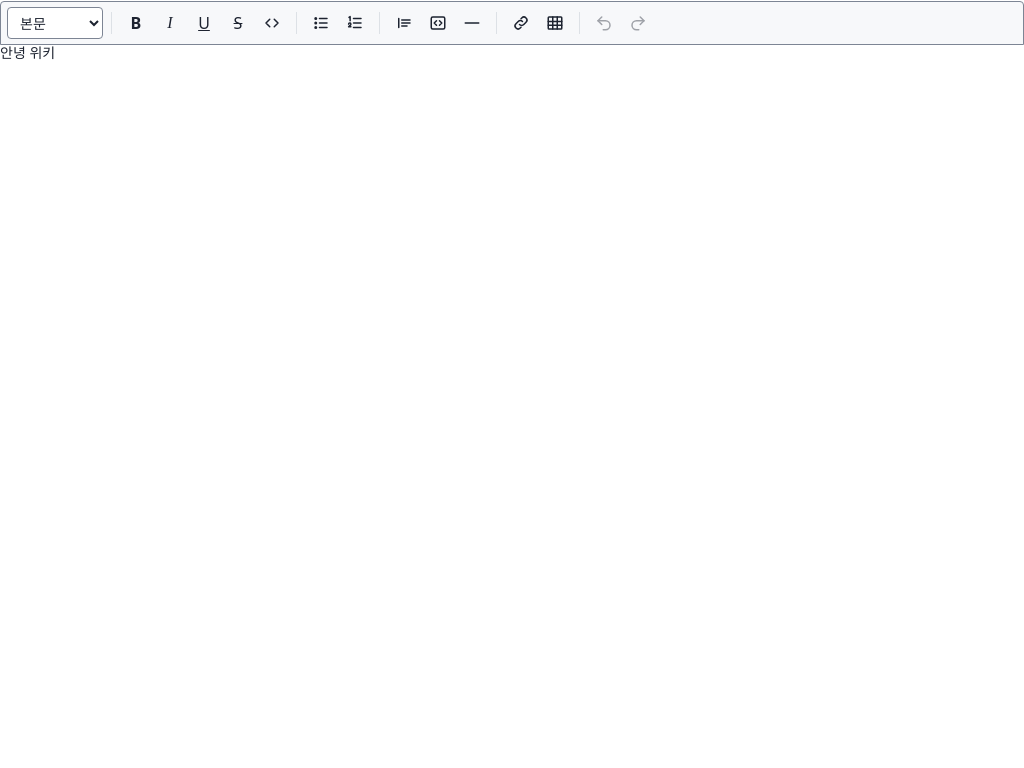
FormatToolbar › **링크 — 대화로 주소를 받고, 안 되는 주소는 까닭을 보이고 닫지 않는다**
The image size is (1024, 768).
Click the button named "링크".
click(521, 23)  # box x1=505 y1=7 x2=537 y2=39
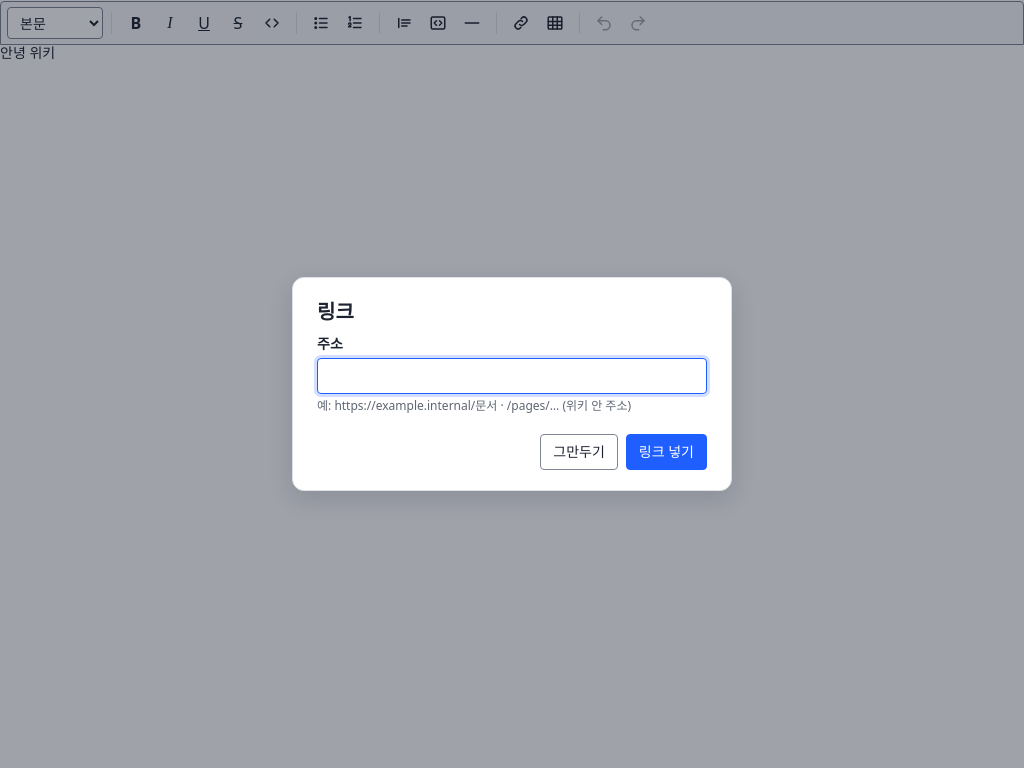
Type "mailto:a@example.internal" into the field labelled "주소".
click(512, 376); type("mailto:a@example.internal")  # box x1=317 y1=358 x2=707 y2=394
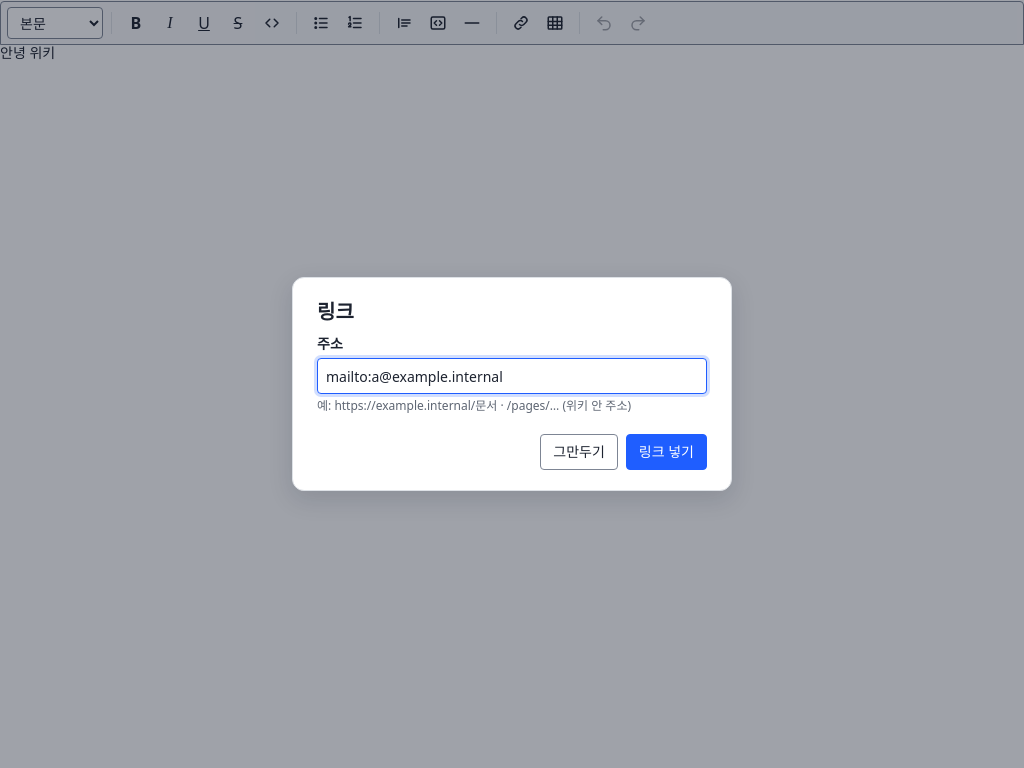
Click the button "링크 넣기".
click(666, 452)  # box x1=626 y1=434 x2=707 y2=470
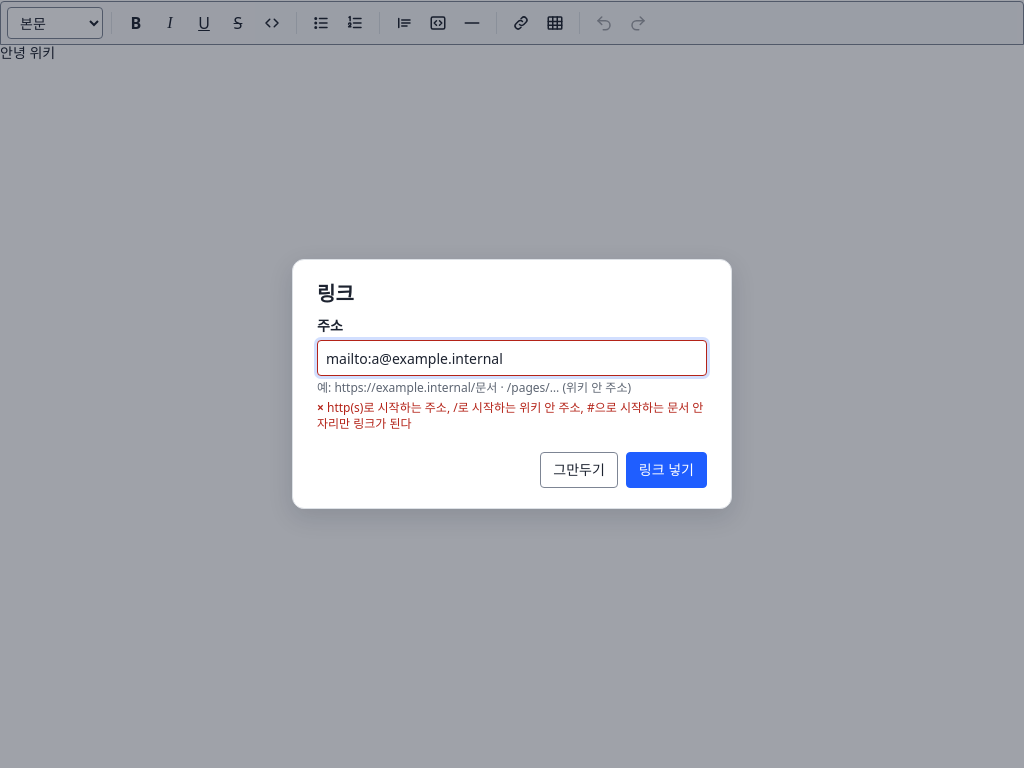
expect the text "http(s)로 시작하는 주소, /로 시작하는 위키 안 주소, #으로 시작하는 문서 안 자리만 링크가 된다" is shown: met, box x1=317 y1=400 x2=707 y2=432
Replace the text in the field labelled "주소" with "https://example.internal/문서" at (512, 358), box x1=317 y1=340 x2=707 y2=376
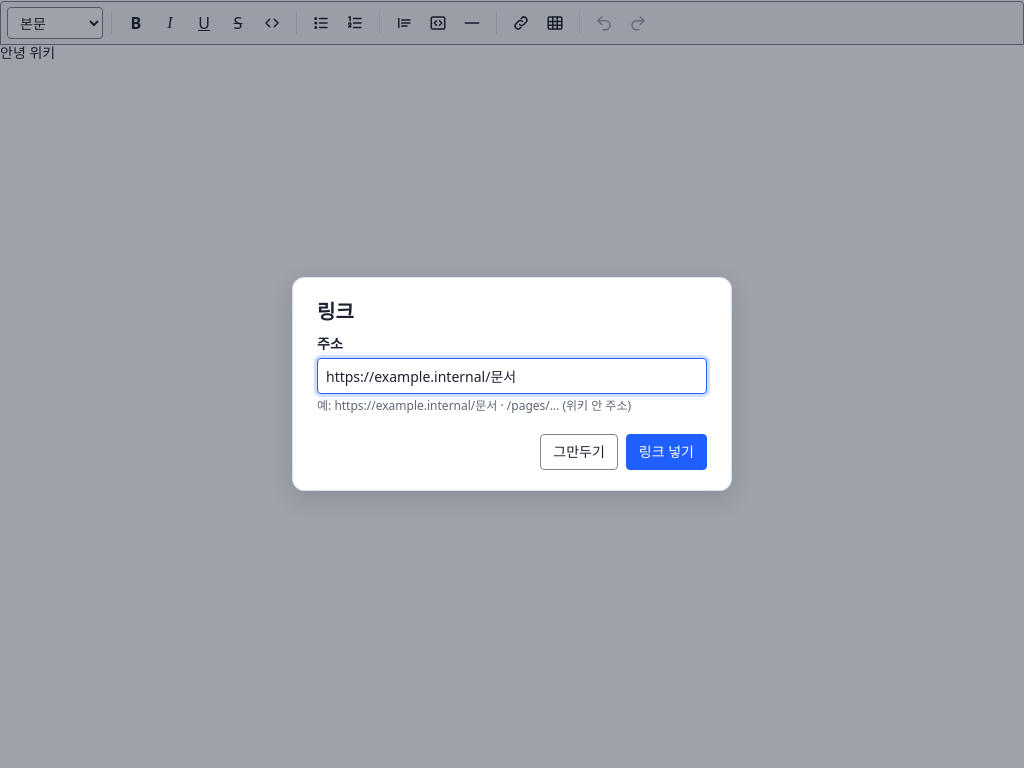
Click the button "링크 넣기".
click(666, 452)  # box x1=626 y1=434 x2=707 y2=470
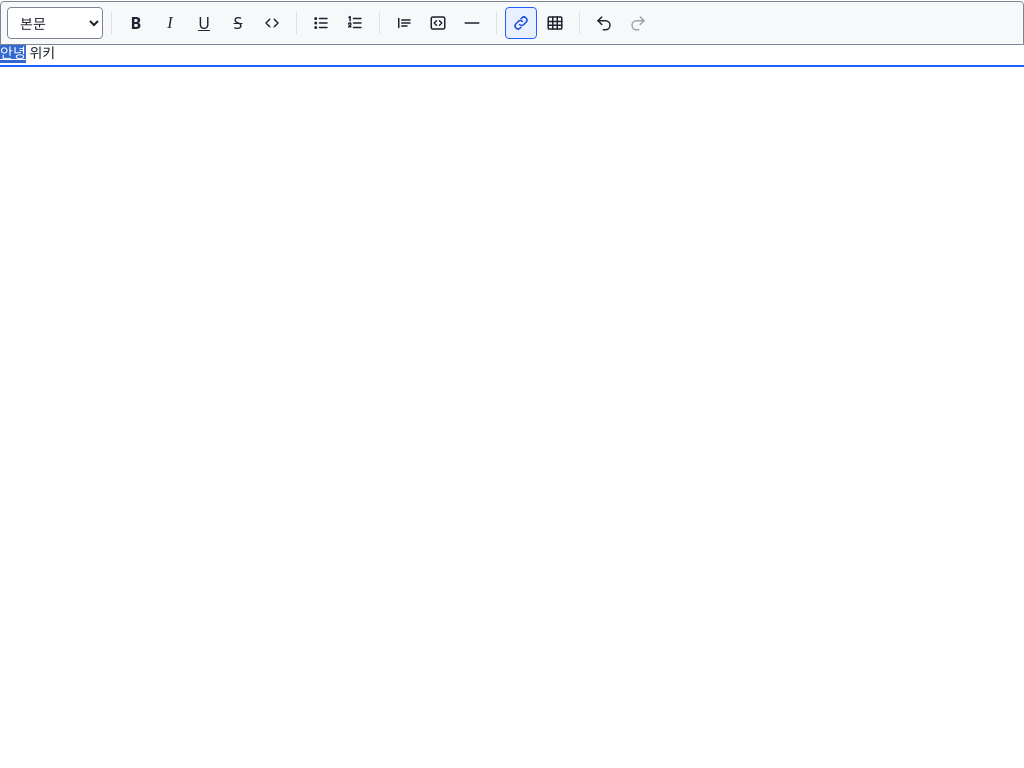
expect the dialog is gone: met
